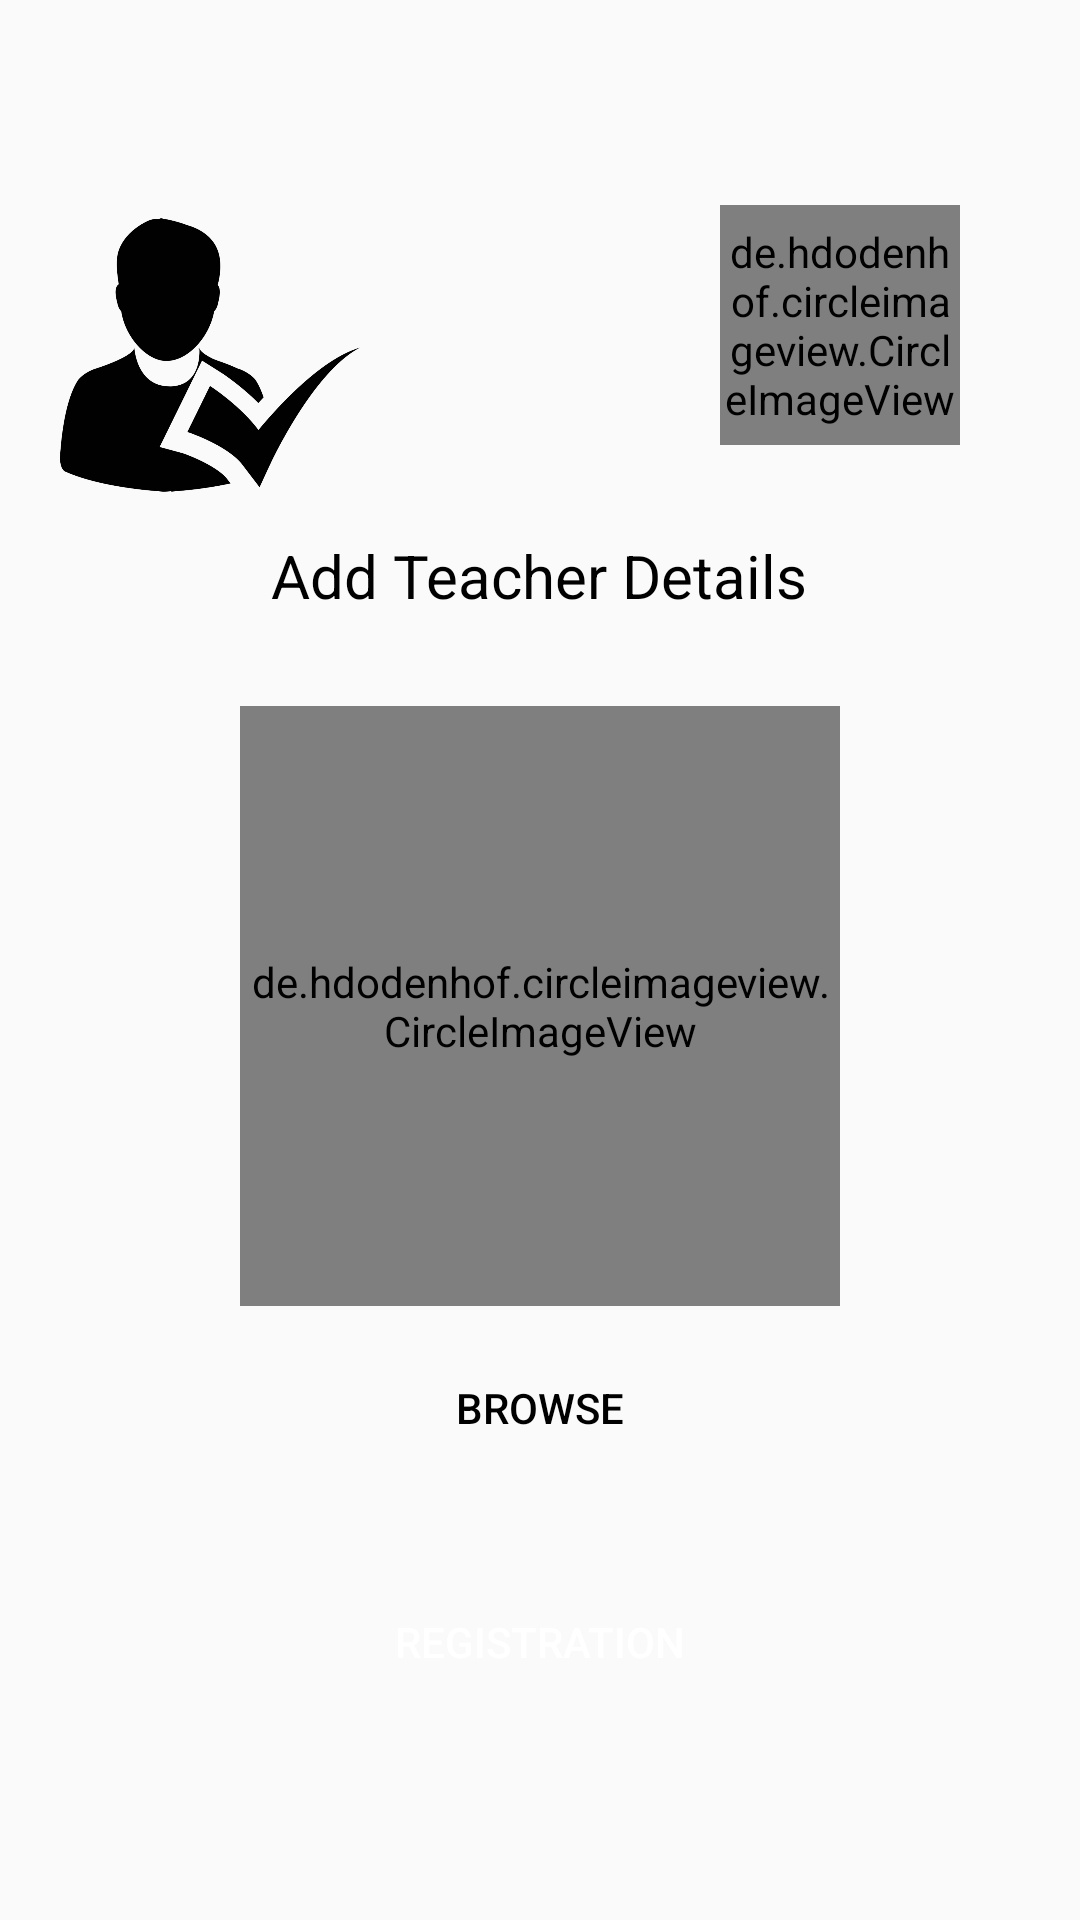

Named icons in this screenshot (1080 x 1920) and their centers, [x,y]:
attendance: [209,355]
